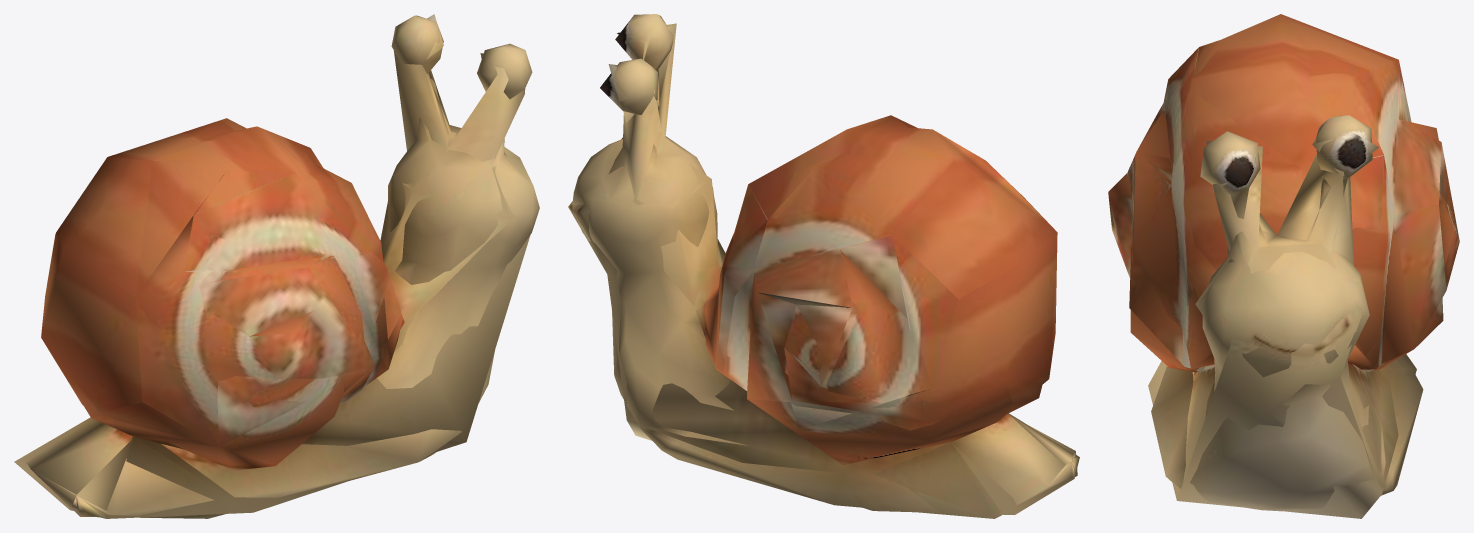
Rendered from snigill.glb.
The picture shows the model from 3 angles, left to right: view 1: azimuth 30°, elevation 25°; view 2: azimuth 150°, elevation 25°; view 3: azimuth 270°, elevation 25°; orthographic projection. The views are drawn at different scales.
Parts seen in each view (by area): view 1: near, far; view 2: near, far; view 3: near, far.
Boxes of the visible parts, x1,y1,x2,y2 form: near: (26, 15, 539, 518); far: (14, 14, 530, 518); near: (572, 14, 1077, 518); far: (568, 23, 1079, 514); near: (1130, 14, 1456, 511); far: (1108, 14, 1459, 518).
Size of the model in its own units: 0.2211 by 0.1638 by 0.1263.
Materials: 1 (1 with a texture image).
